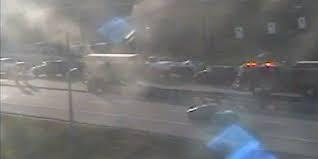smoke: (0, 0, 318, 126)
